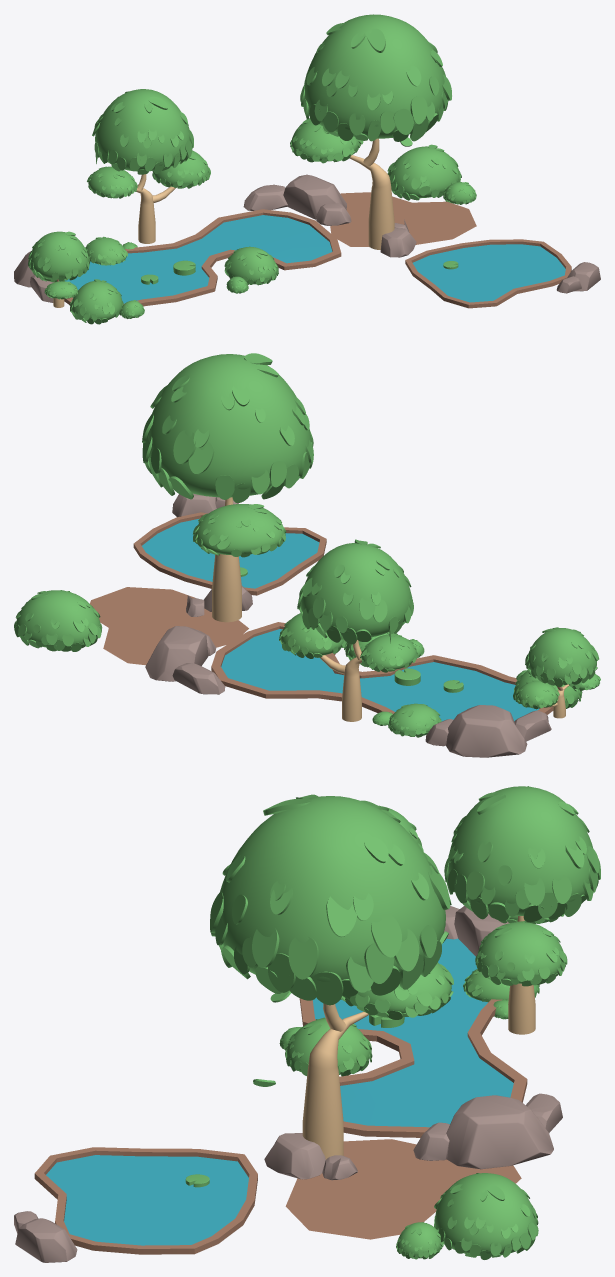
Rendered from RingSlangHabitatContext2.fbx.
3 views of the same model, one above another, from view 1: azimuth 30°, elevation 25°; view 2: azimuth 150°, elevation 25°; view 3: azimuth 270°, elevation 25° (orthographic). The views are drawn at different scales.
Visible parts, largest first — view 1: Plane.001; view 2: Plane.001; view 3: Plane.001.
Part boxes in pixels (x1,y1,x2,y2): Plane.001: [14, 14, 600, 324]; Plane.001: [14, 353, 600, 757]; Plane.001: [14, 786, 600, 1262].
Bounding box in the file's own units: 312 × 148 × 217.
